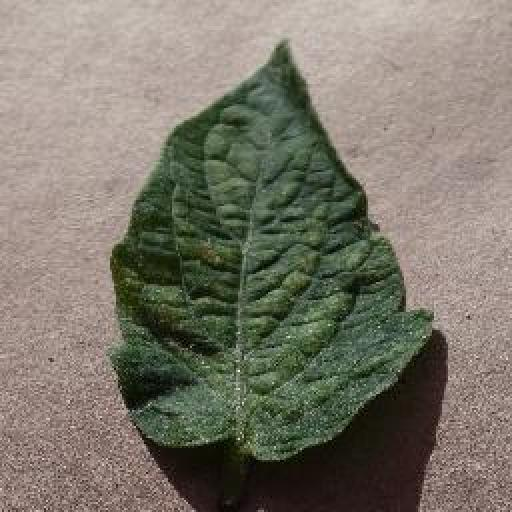disease_tomato: (111, 36, 433, 463)
